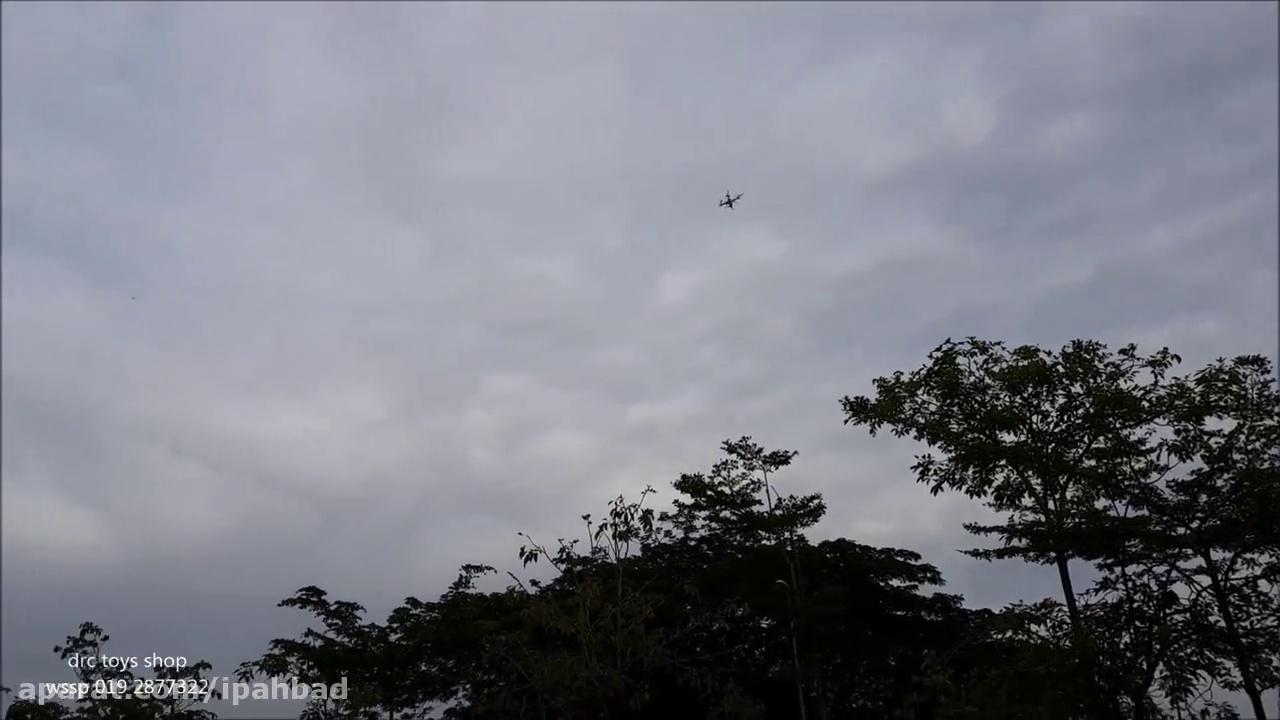drone: (714, 187, 746, 212)
